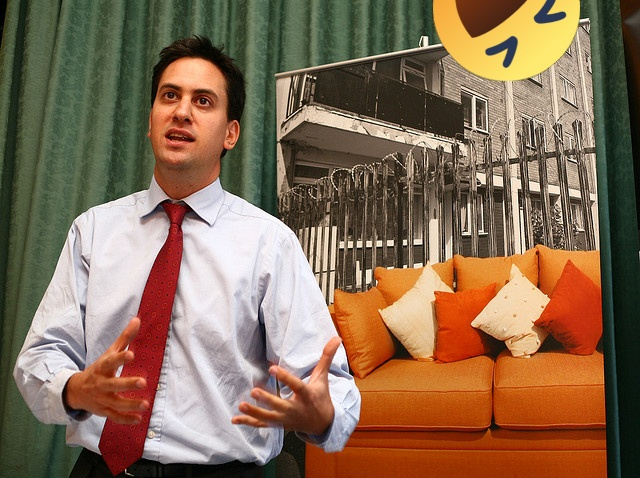haha: (433, 0, 580, 81)
